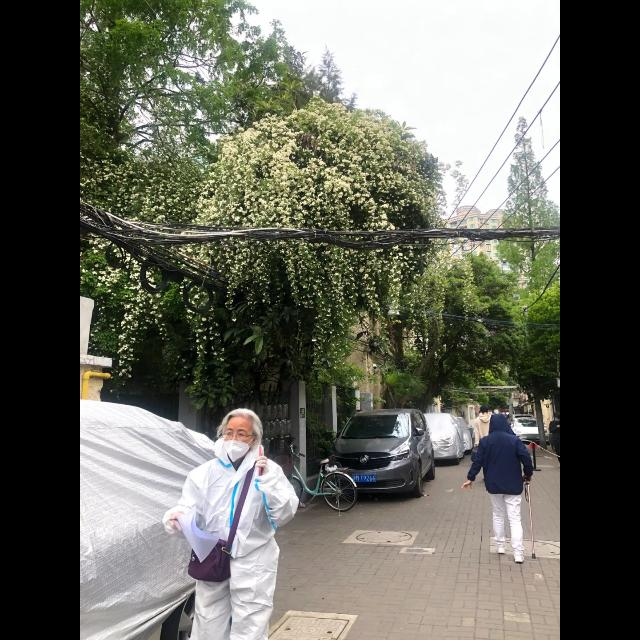masks: (222, 438, 248, 462)
